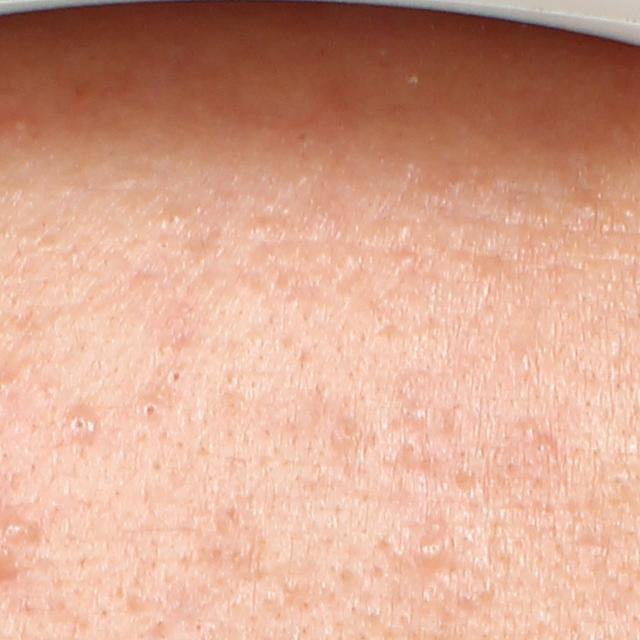comedo: (60, 410, 95, 442), (414, 536, 445, 565), (402, 401, 432, 430), (519, 420, 543, 449), (137, 396, 162, 422), (388, 220, 412, 247), (165, 364, 183, 387)
